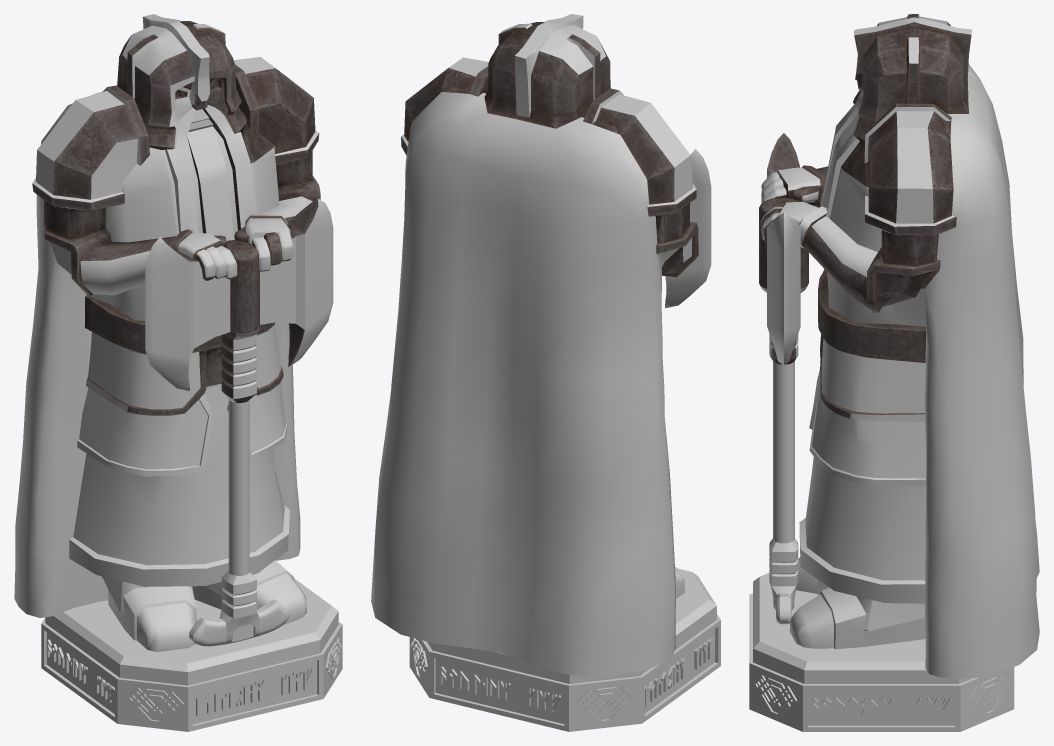
The model's file is SM_GreatDwarvenStatue.fbx.
3 renders of one model, left to right at view 1: azimuth 30°, elevation 25°; view 2: azimuth 150°, elevation 25°; view 3: azimuth 270°, elevation 25°, orthographic. The views are drawn at different scales.
Parts seen in each view (by area): view 1: SM_GreatDwarvenStatue_LOD0; view 2: SM_GreatDwarvenStatue_LOD0; view 3: SM_GreatDwarvenStatue_LOD0.
Boxes of the visible parts, x1,y1,x2,y2 form: SM_GreatDwarvenStatue_LOD0: (14,14,342,731); SM_GreatDwarvenStatue_LOD0: (371,14,720,731); SM_GreatDwarvenStatue_LOD0: (749,14,1039,731).
Size of the model in its own units: 1303 by 1155 by 2873.
